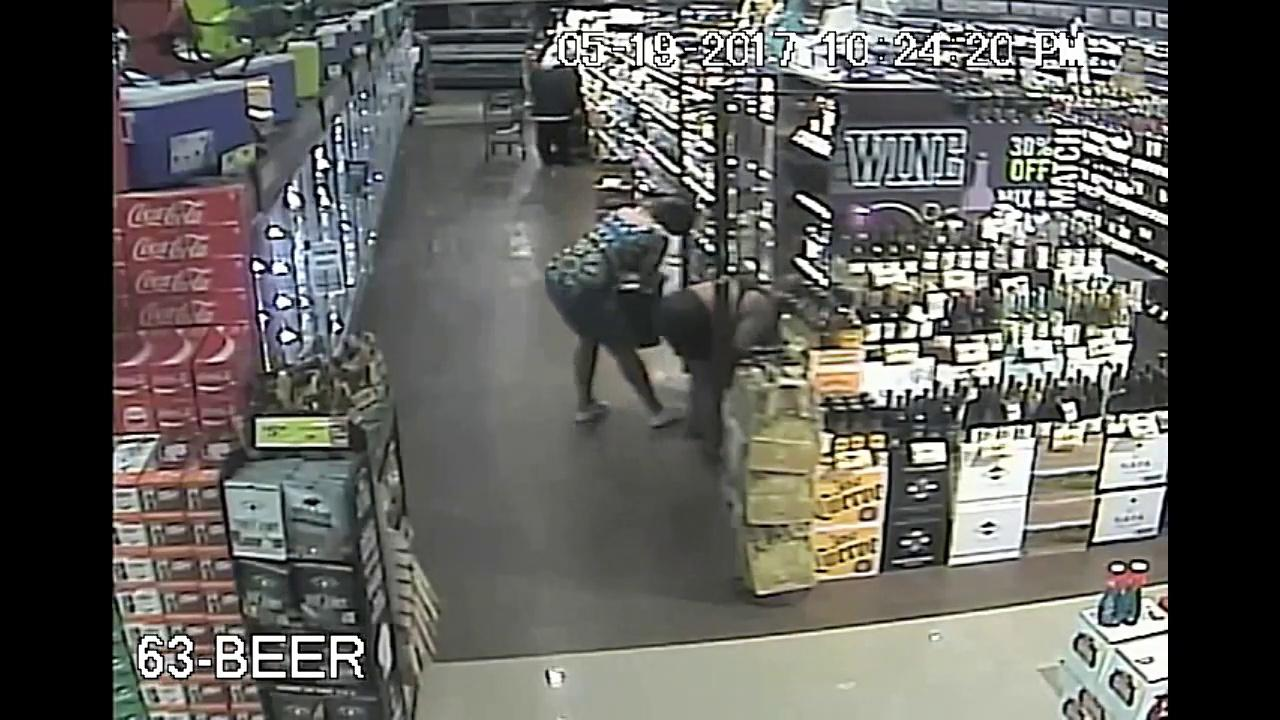Customer-Bagpack: (606, 267, 670, 348)
Regular: (511, 9, 595, 192)
Shoplifting: (522, 189, 711, 433), (664, 246, 828, 399)
